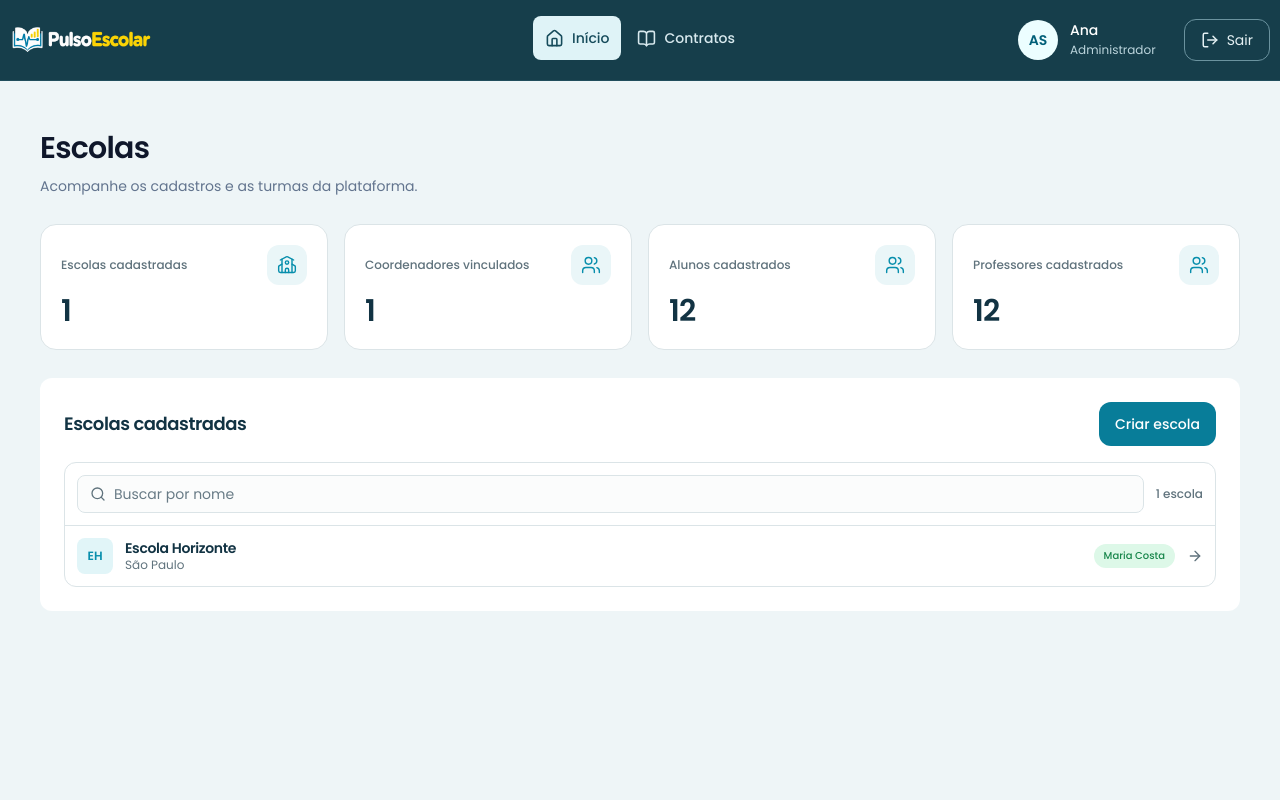
Scenario: escolas filtram nome, mostram vínculo e link de detalhes
Expected: the heading "Escola Horizonte" is shown, [125,538,236,558]
Expected: the text "Maria Costa" is shown, [1094,544,1175,568]
In the search field: (622, 494) [114,484,1131,504], type "horizonte"
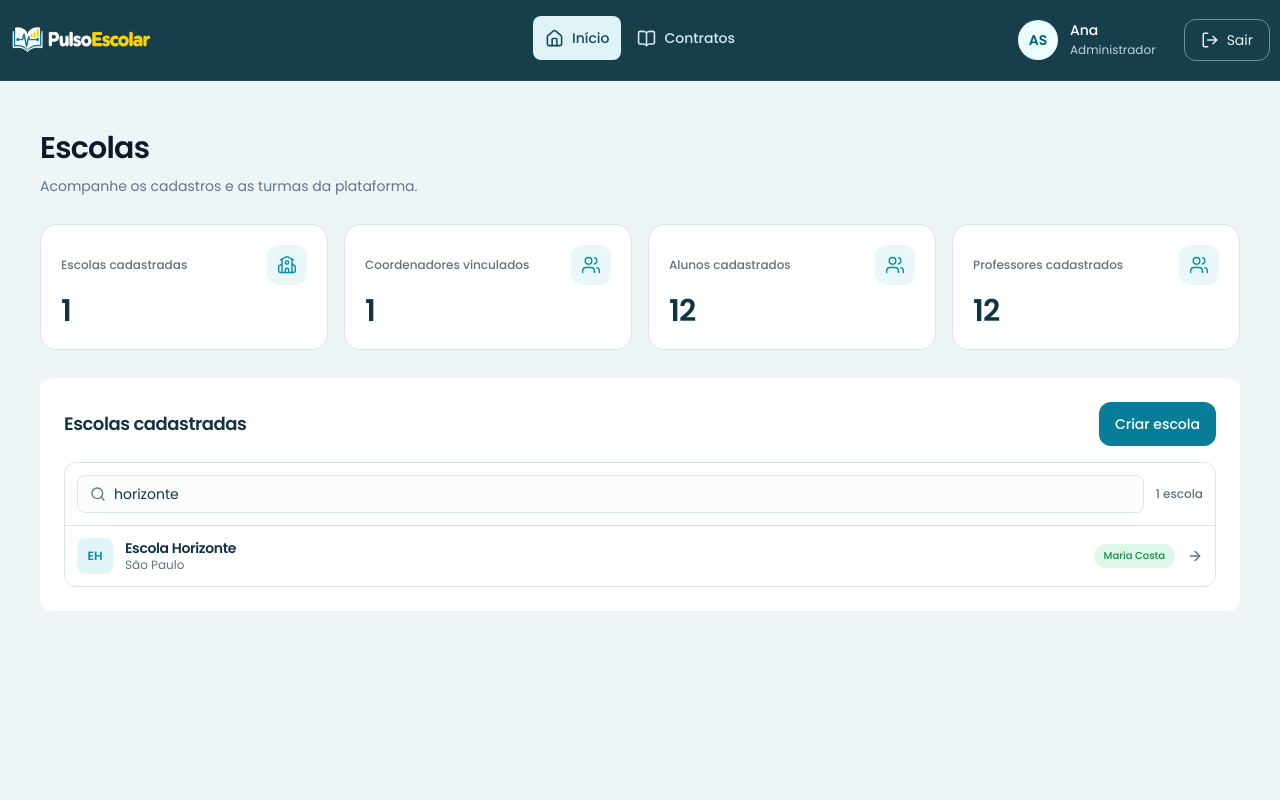
Expected: the heading "Escola Horizonte" is shown, [125,538,236,558]
Replace the text in the search field with "Escola": (622, 494) [114,484,1131,504]
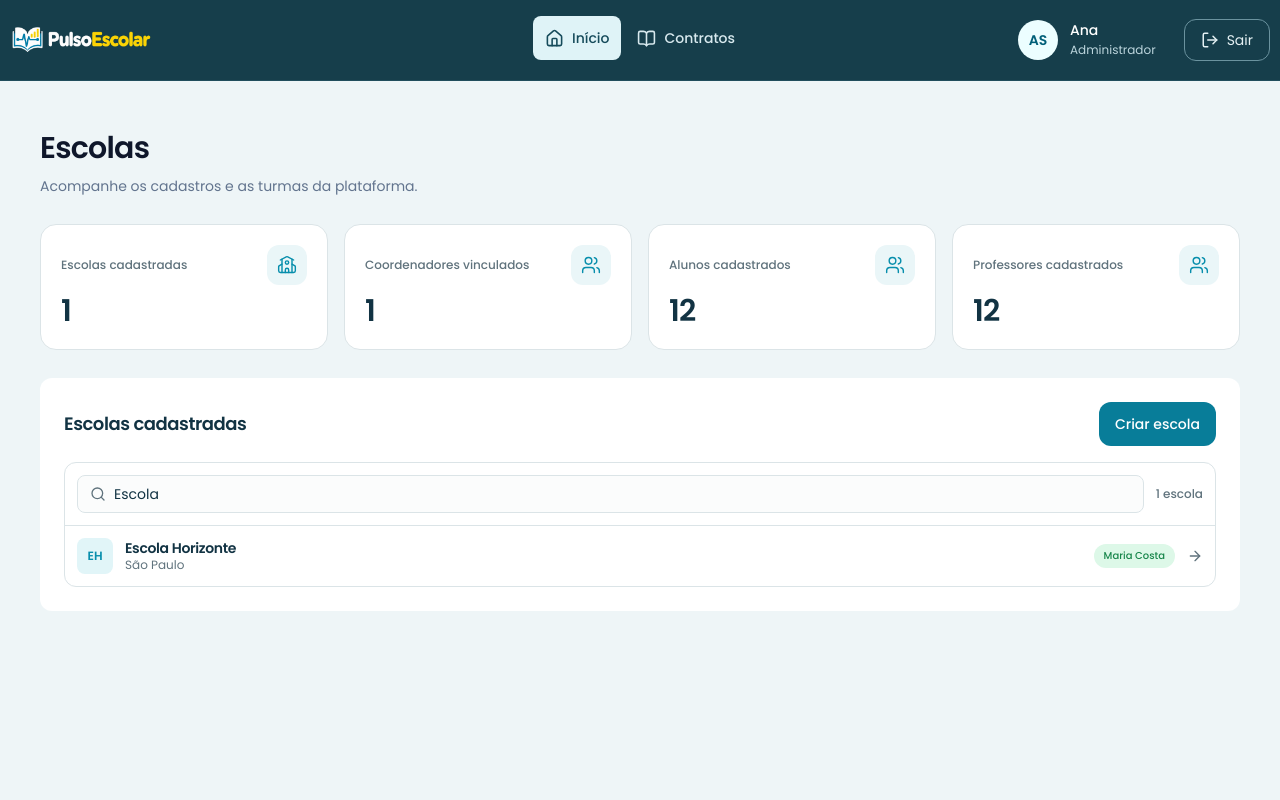
Expected: the heading "Escola Horizonte" is shown, [125,538,236,558]
Replace the text in the search field with "Horizonte": (622, 494) [114,484,1131,504]
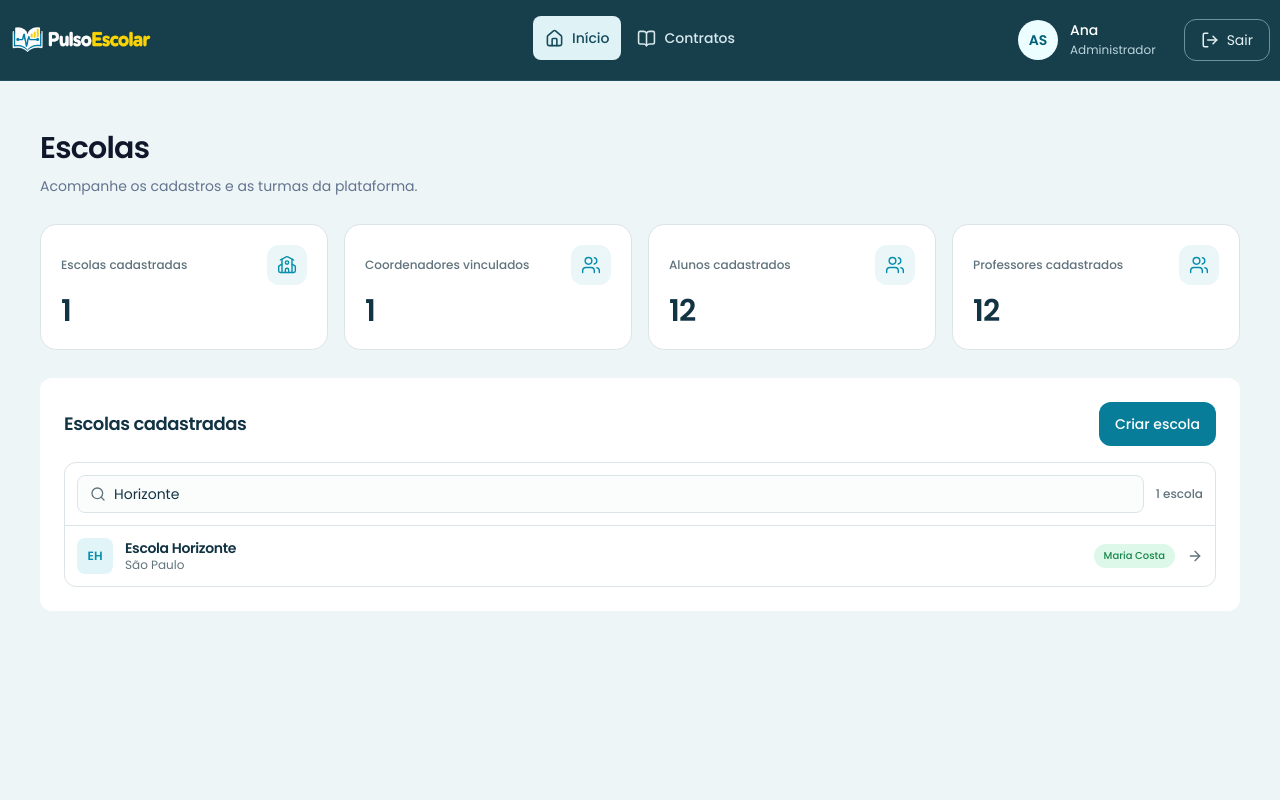
Expected: the heading "Escola Horizonte" is shown, [125,538,236,558]
Replace the text in the search field with "ausente": (622, 494) [114,484,1131,504]
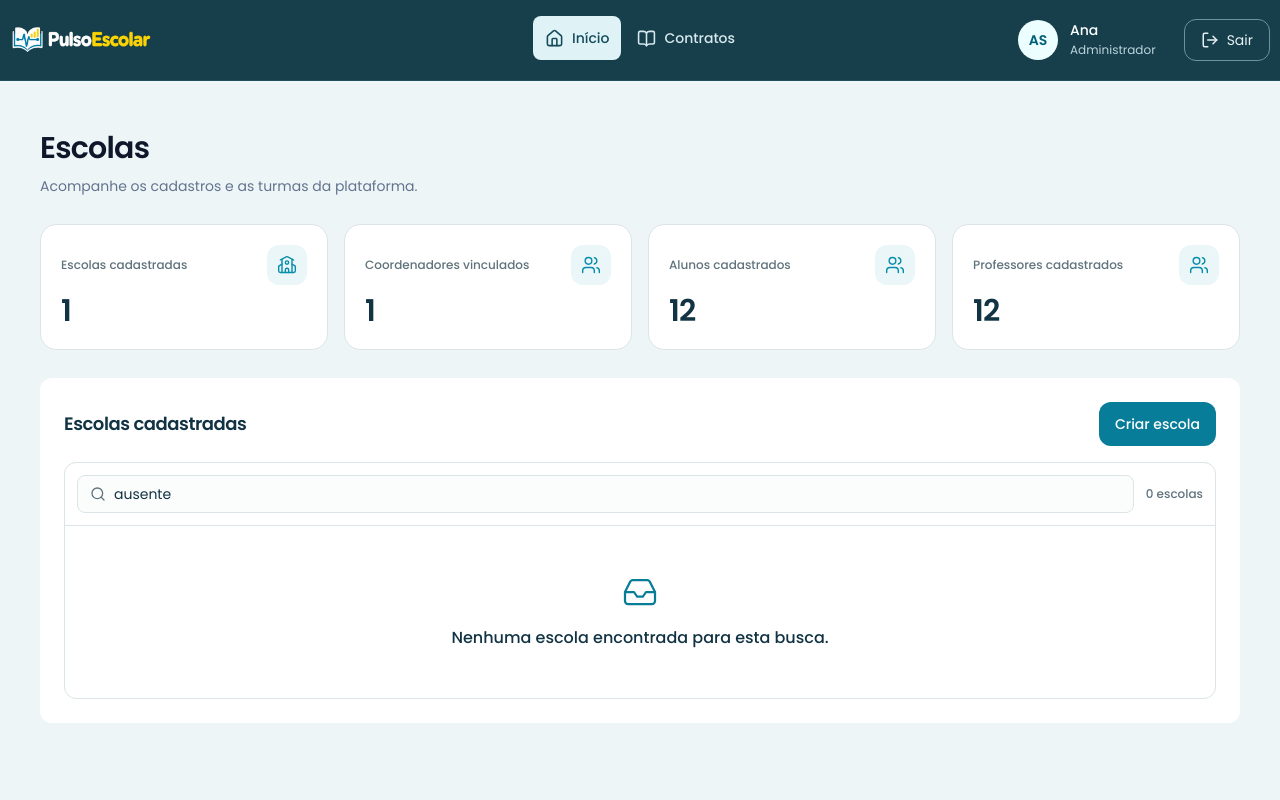
Result: the text "Nenhuma escola encontrada para esta busca." is shown at [451,626,829,650]
